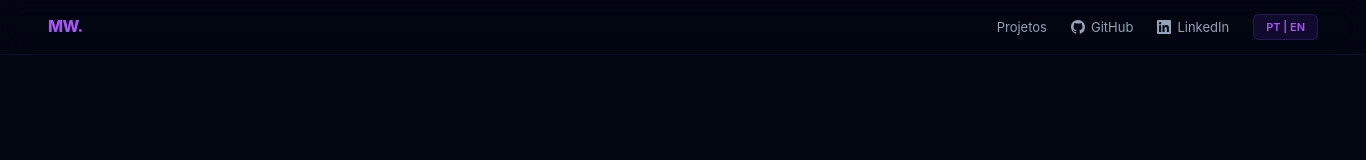
Header › language toggle switches PT to EN
Click the button "PT | EN".
click(1286, 27)  # box left=1253, top=14, right=1318, bottom=40
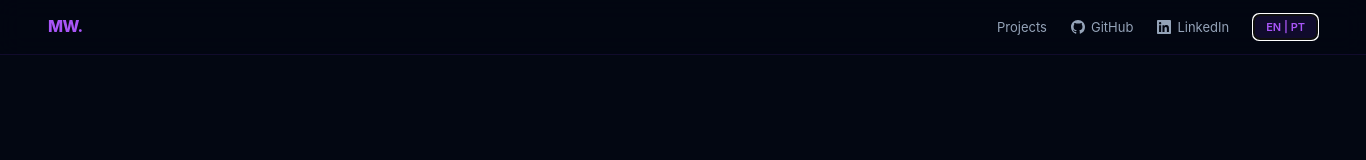
Check: the button "EN | PT" is shown, box left=1253, top=14, right=1318, bottom=40
